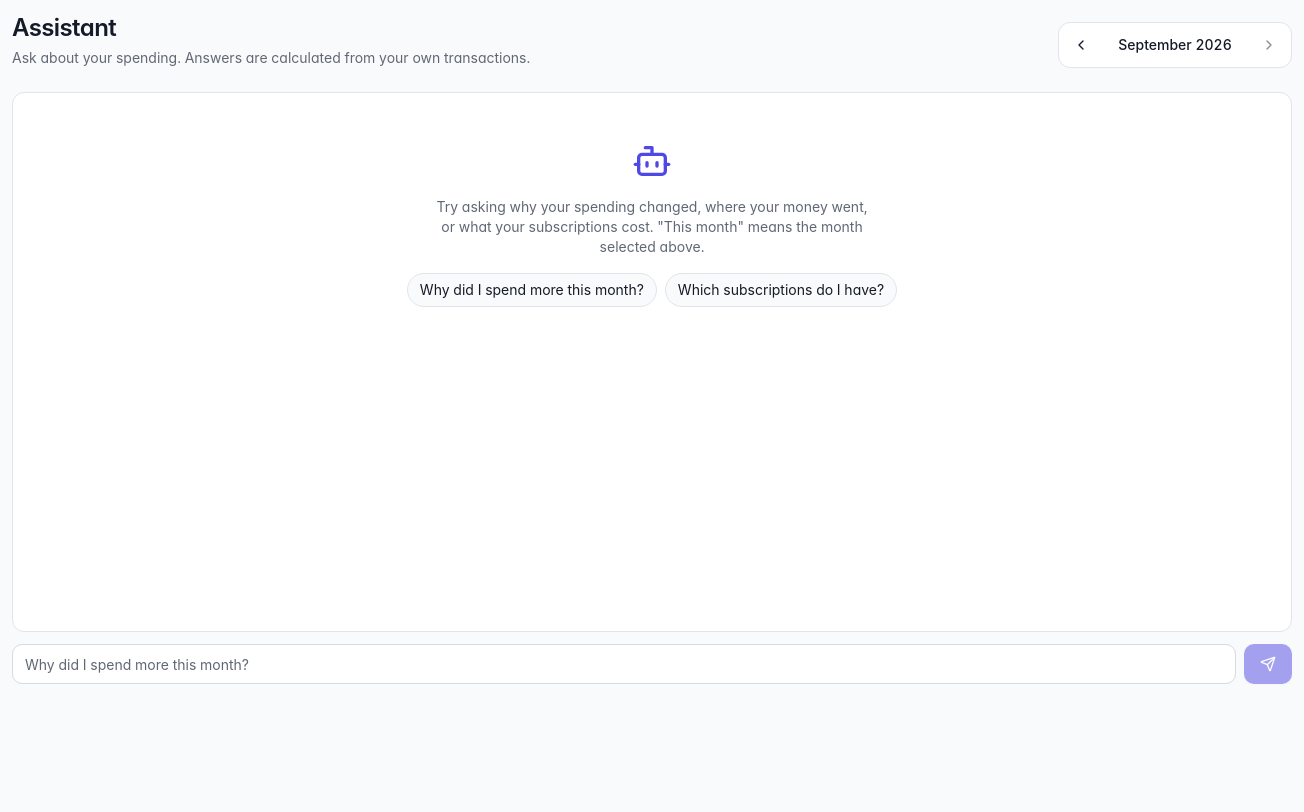
Test: AssistantPage › answers a suggested question with its supporting data
Click the button "Why did I spend more this month?".
click(532, 290)  # box 407,273 -> 657,307
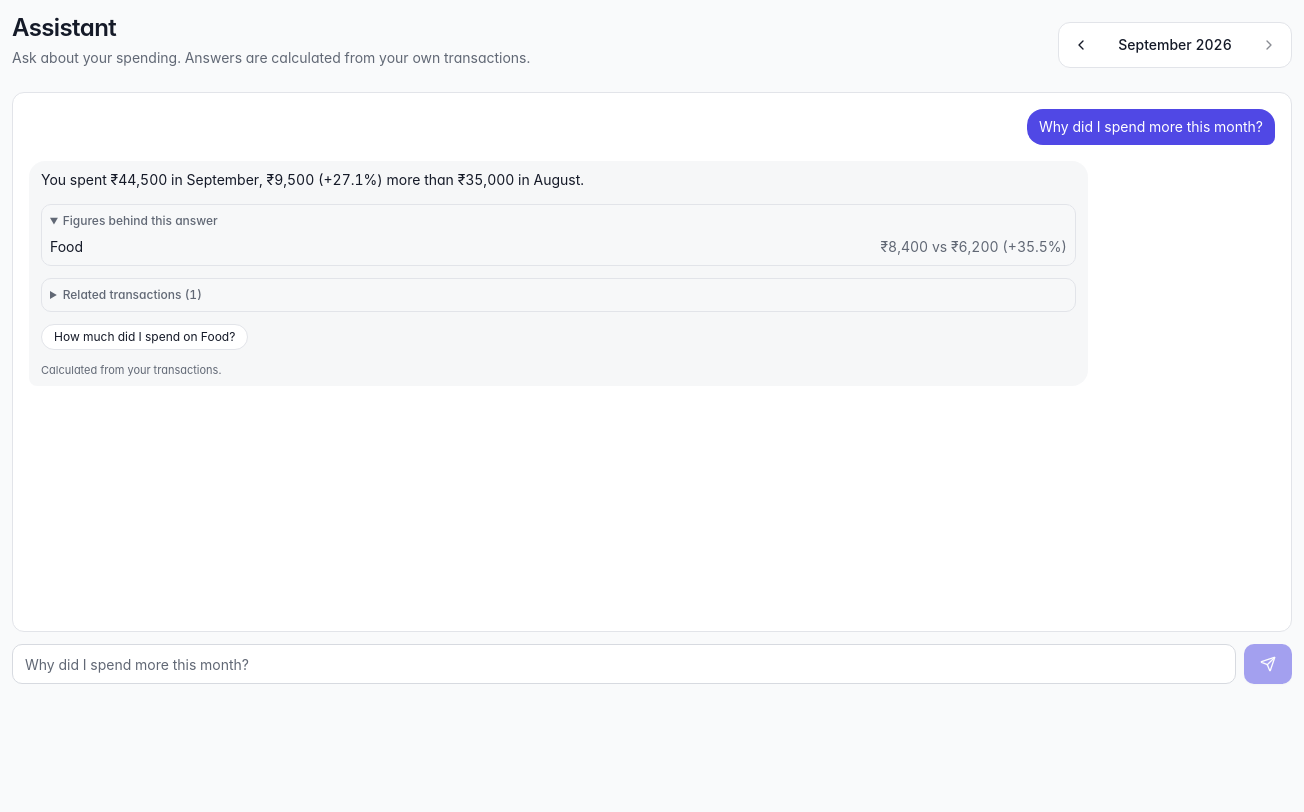
Expected: the text "You spent ₹44,500 in September, ₹9,500 (+27.1%) more than ₹35,000 in August." is shown, 41,171 -> 584,188
Expected: the text "₹8,400 vs ₹6,200 (+35.5%)" is shown, 880,237 -> 1067,257
Expected: the text "Calculated from your transactions." is shown, 41,363 -> 221,377
